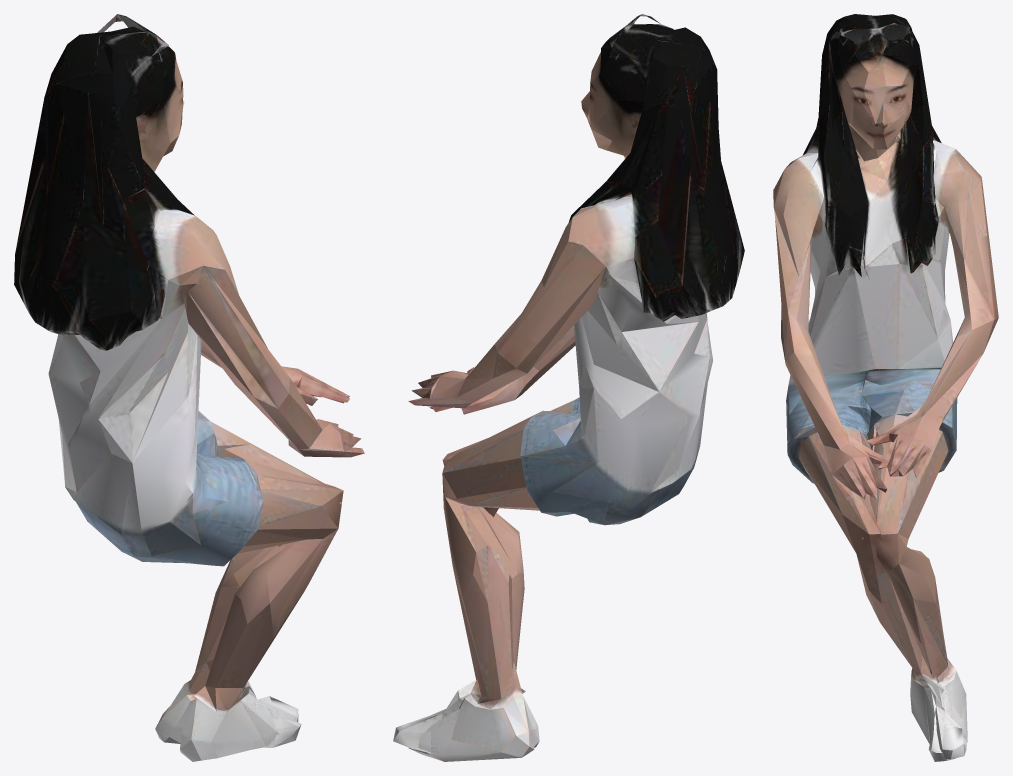
The model's file is crowd-sp-5.glb.
The picture shows the model from 3 angles, left to right: view 1: azimuth 30°, elevation 25°; view 2: azimuth 150°, elevation 25°; view 3: azimuth 270°, elevation 25°; orthographic projection. The views are drawn at different scales.
Parts seen in each view (by area): view 1: char1; view 2: char1; view 3: char1.
Boxes of the visible parts, x1=… form: char1: x1=14, y1=14, x2=364, y2=761; char1: x1=393, y1=14, x2=744, y2=761; char1: x1=773, y1=14, x2=998, y2=761.
Bounding box in the file's own units: 0.5715 × 1.34 × 0.4145.
Materials: 1 (1 with a texture image).
